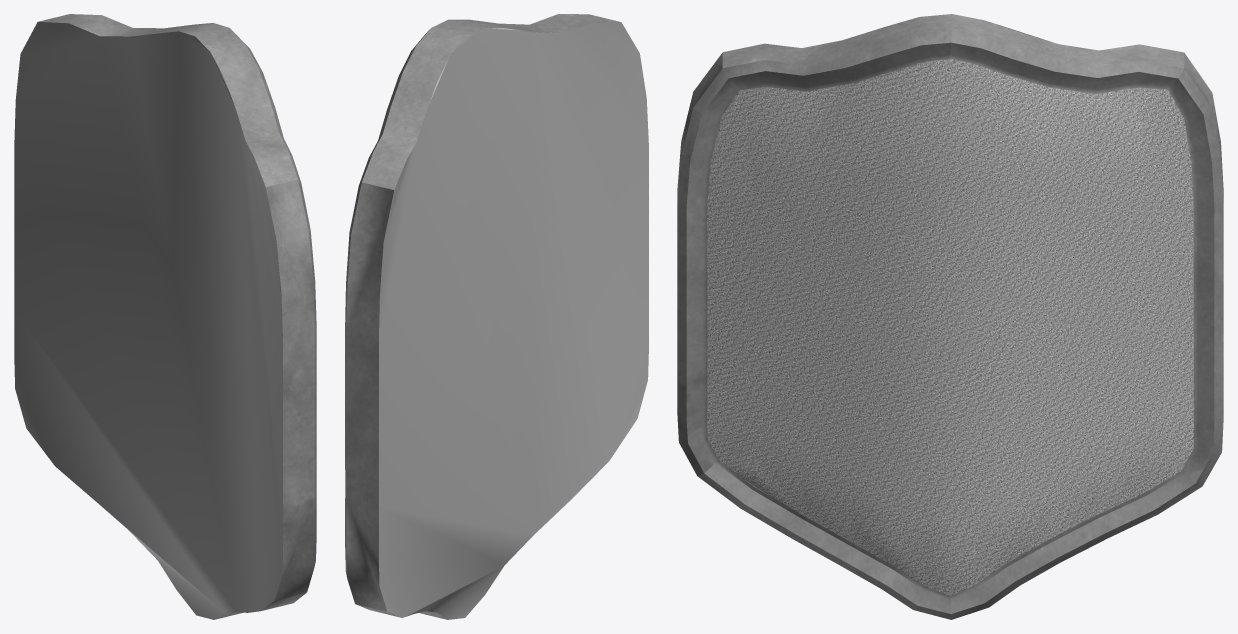
The model's file is shield2.fbx.
3 renders of one model, left to right at view 1: azimuth 30°, elevation 25°; view 2: azimuth 150°, elevation 25°; view 3: azimuth 270°, elevation 25°, orthographic.
Parts seen in each view (by area): view 1: pCube1; view 2: pCube1; view 3: pCube1.
Part boxes in pixels (x1,y1,x2,y2): pCube1: [14, 14, 316, 619]; pCube1: [345, 14, 648, 619]; pCube1: [677, 14, 1223, 619].
Bounding box in the file's own units: 0.6279 × 3.83 × 3.22.
Materials: 1 (1 with a texture image).
